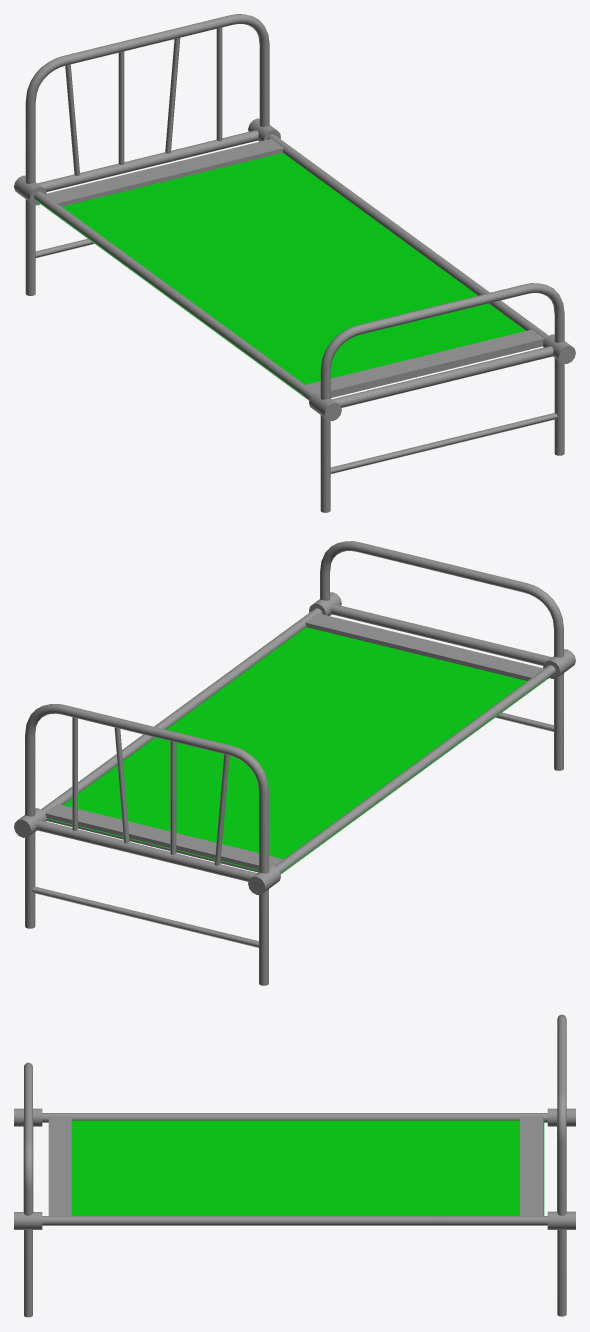
File: bed_01.FBX
3 views of the same model, one above another, from view 1: azimuth 30°, elevation 25°; view 2: azimuth 150°, elevation 25°; view 3: azimuth 270°, elevation 25° (orthographic). The views are drawn at different scales.
Parts seen in each view (by area): view 1: bed_01_a; view 2: bed_01_a; view 3: bed_01_a.
Boxes of the visible parts, left/top/right/bottom form: bed_01_a: left=14, top=14, right=575, bottom=512; bed_01_a: left=14, top=541, right=575, bottom=985; bed_01_a: left=14, top=1014, right=575, bottom=1317.
Bounding box in the file's own units: 121 × 106 × 260.
